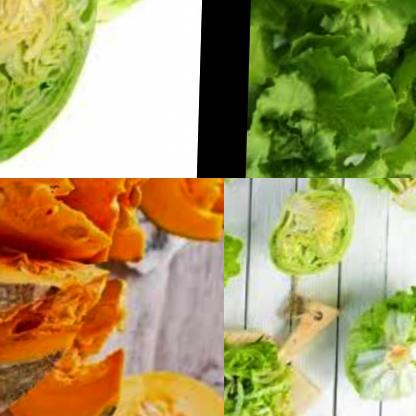pumpkin: (0, 284, 107, 416), (11, 300, 132, 416), (6, 178, 146, 275), (0, 178, 115, 266), (0, 253, 113, 337), (30, 370, 224, 416), (78, 178, 169, 266), (129, 178, 224, 251)
salad: (244, 0, 416, 178), (0, 0, 109, 177), (262, 178, 361, 283), (343, 295, 416, 411), (224, 333, 300, 416), (224, 218, 249, 321), (367, 178, 416, 222)
